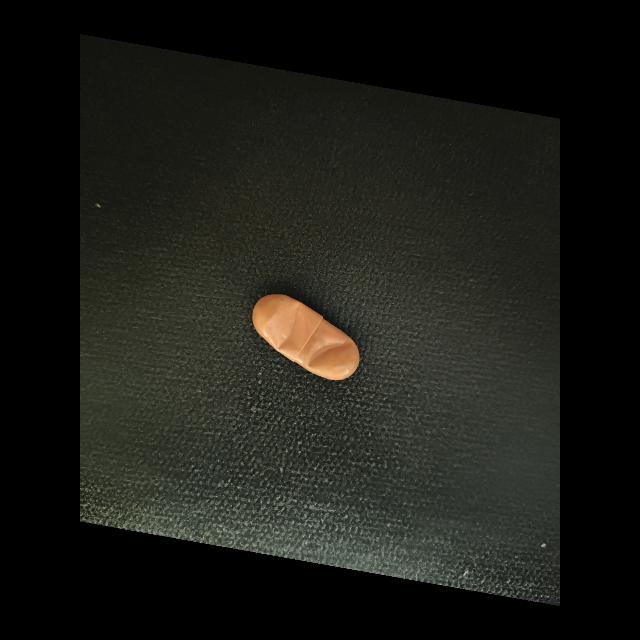Defective Capsule: (261, 301, 307, 351), (306, 338, 354, 369)
